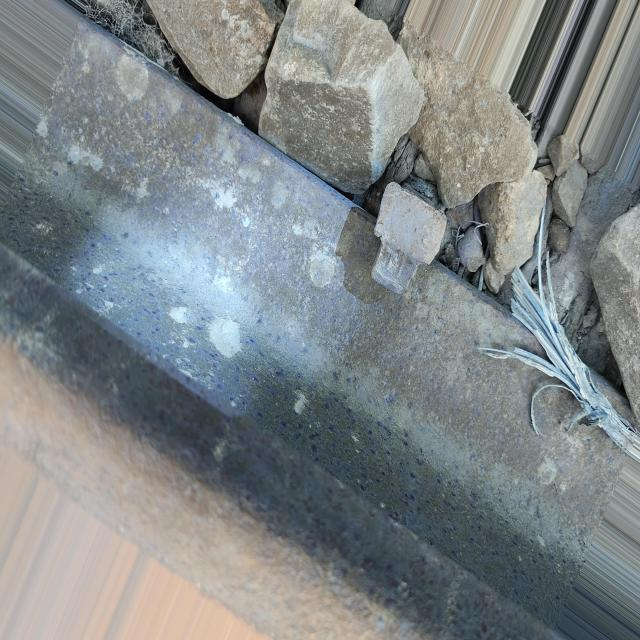Good Fasteners: (371, 182, 446, 293)
